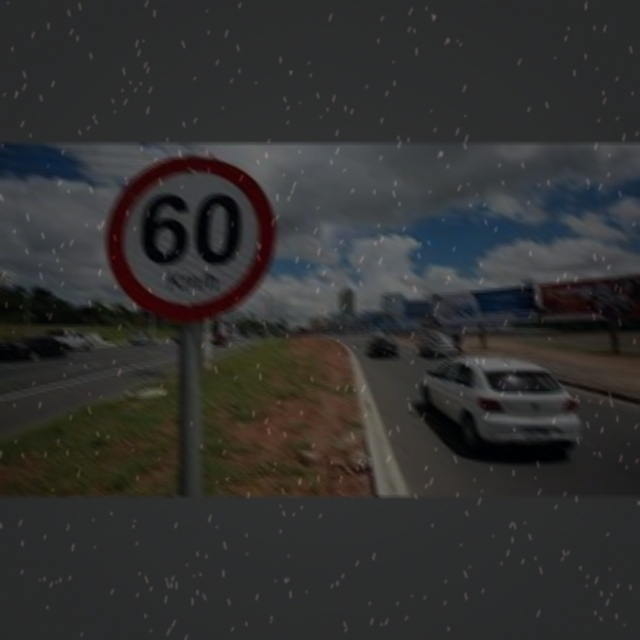Speed_Limit_60: (109, 152, 270, 321)
